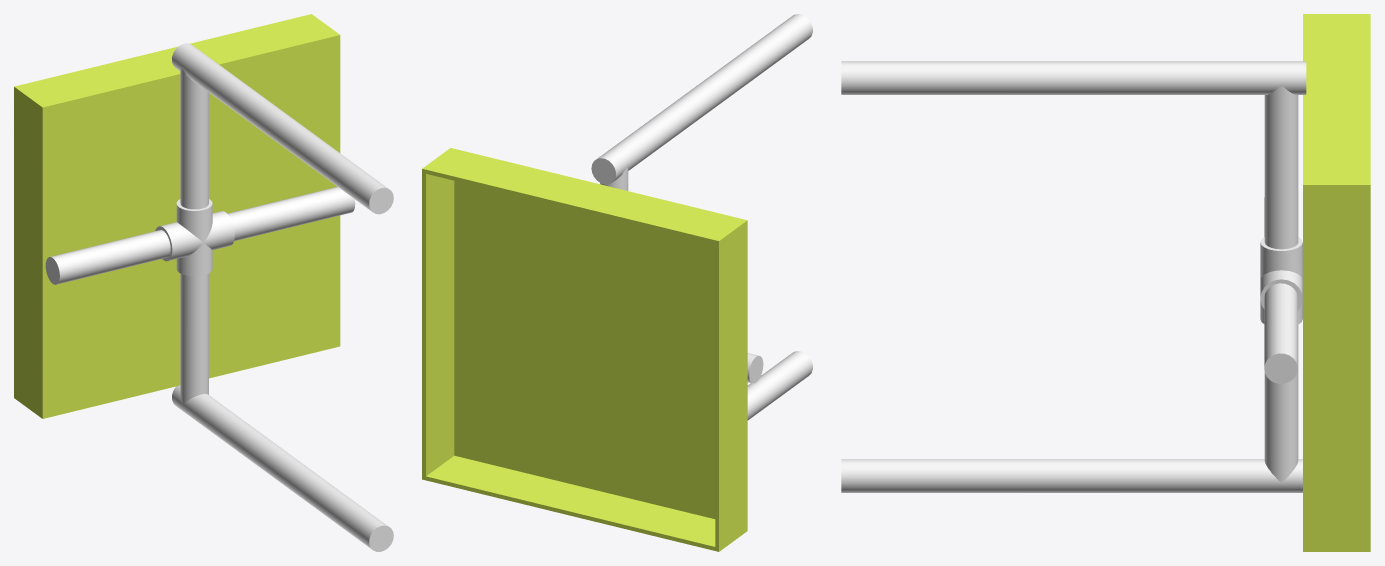
Rendered from garlic_holder.obj.
3 renders of one model, left to right at view 1: azimuth 30°, elevation 25°; view 2: azimuth 150°, elevation 25°; view 3: azimuth 270°, elevation 25°, orthographic. The views are drawn at different scales.
Parts seen in each view (by area): view 1: Bryła6, Bryła3, Bryła2, Bryła1, Bryła4, Bryła5; view 2: Bryła6, Bryła3, Bryła2; view 3: Bryła6, Bryła3, Bryła2, Bryła1, Bryła4, Bryła5.
Boxes of the visible parts, box(x1,y1,x2,y2) form: Bryła6: box(14, 14, 340, 418); Bryła3: box(172, 43, 393, 214); Bryła2: box(172, 385, 393, 551); Bryła1: box(180, 67, 208, 404); Bryła4: box(45, 186, 355, 284); Bryła5: box(155, 199, 234, 276); Bryła6: box(422, 148, 747, 551); Bryła3: box(591, 14, 812, 184); Bryła2: box(747, 351, 812, 420); Bryła6: box(1303, 14, 1370, 551); Bryła3: box(841, 61, 1306, 94); Bryła2: box(841, 459, 1302, 492); Bryła1: box(1264, 85, 1298, 482); Bryła4: box(1264, 197, 1297, 383); Bryła5: box(1260, 237, 1302, 324).
Size of the model in its own units: 305 by 356 by 398.
